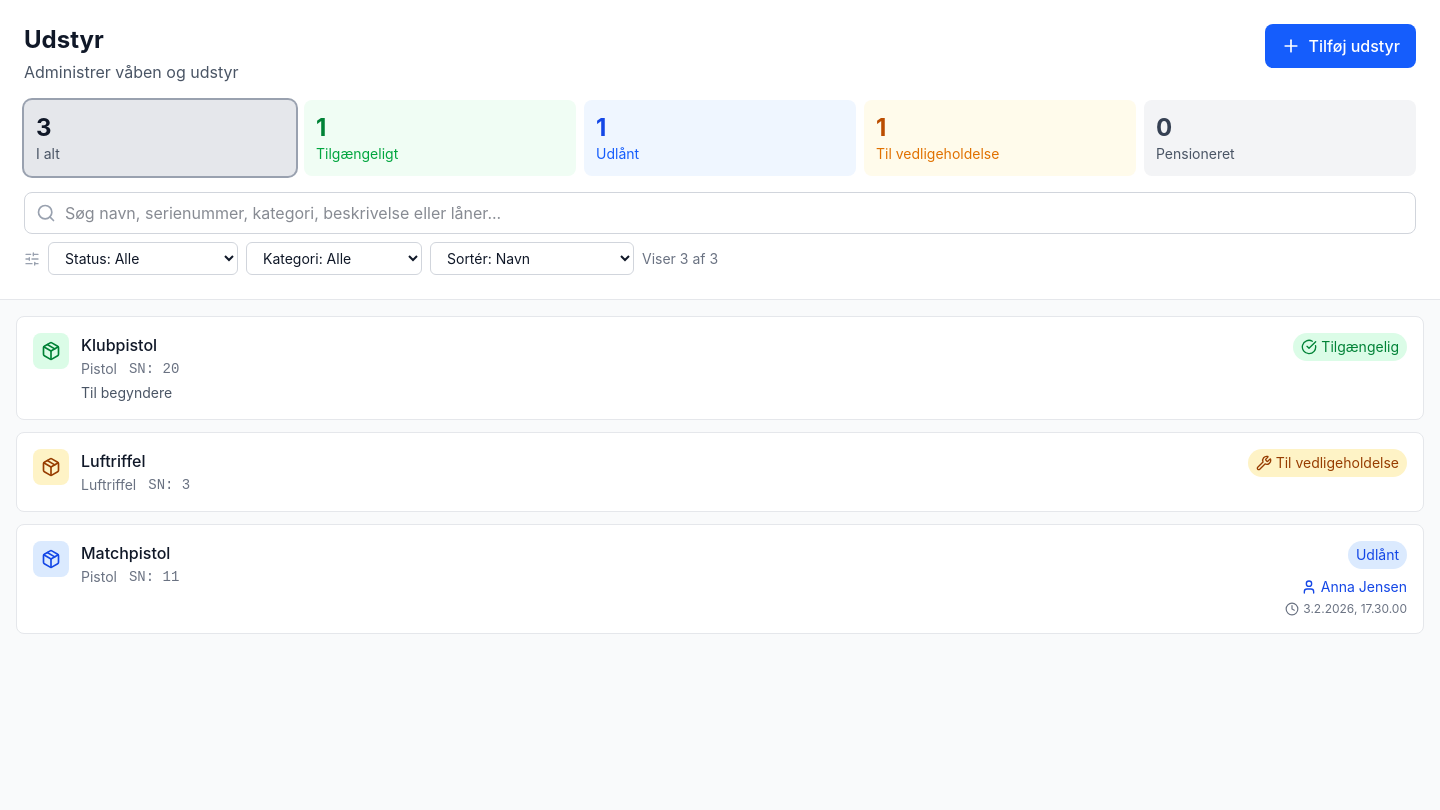
Test: EquipmentPage › prevents duplicate serial numbers
Expected: the text "Klubpistol" is shown, [81, 335, 157, 355]
Click the button "Tilføj udstyr" at (1340, 46), box [1265, 24, 1416, 68]
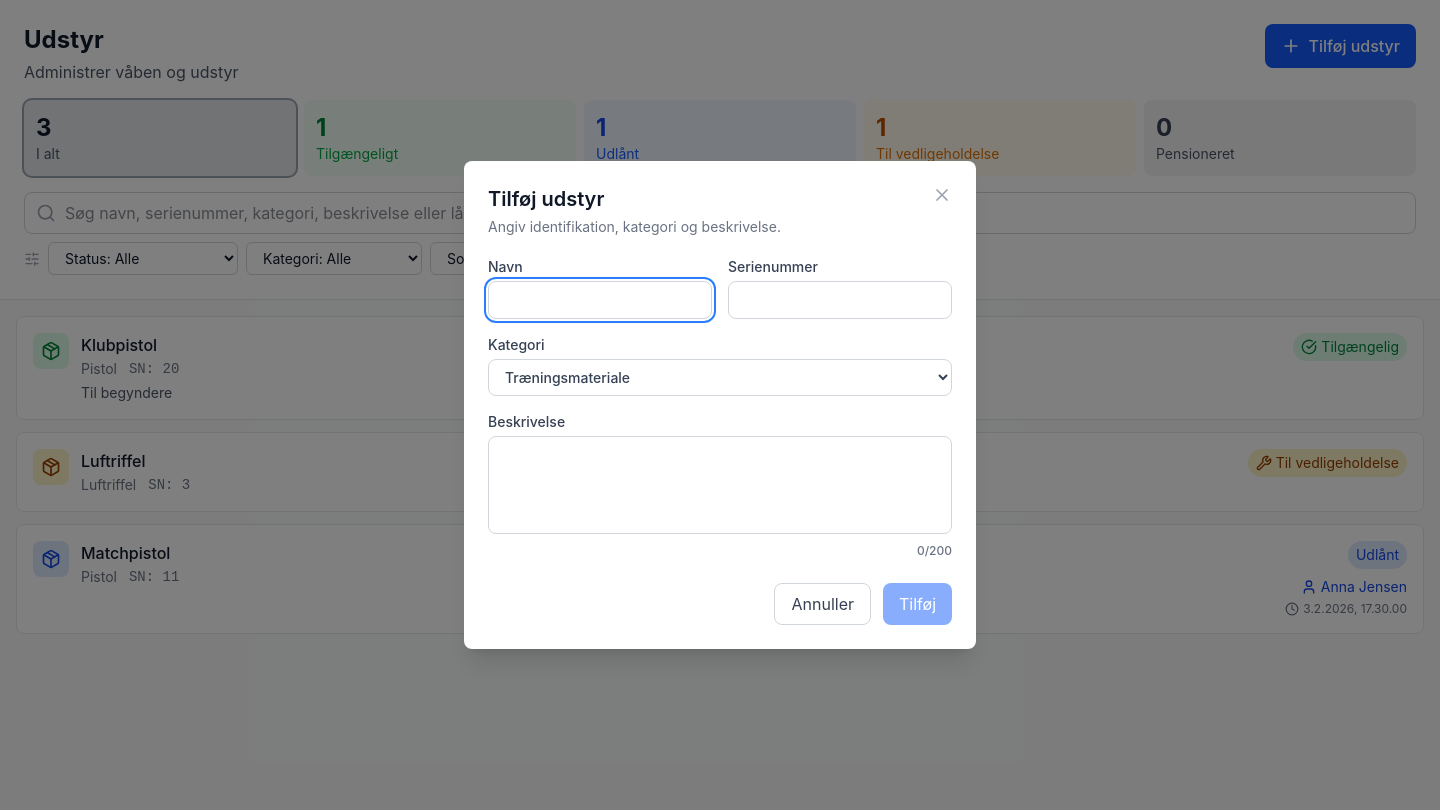
Type "Ny salonriffel" into the field labelled "Navn" at (600, 300), box [488, 281, 712, 319]
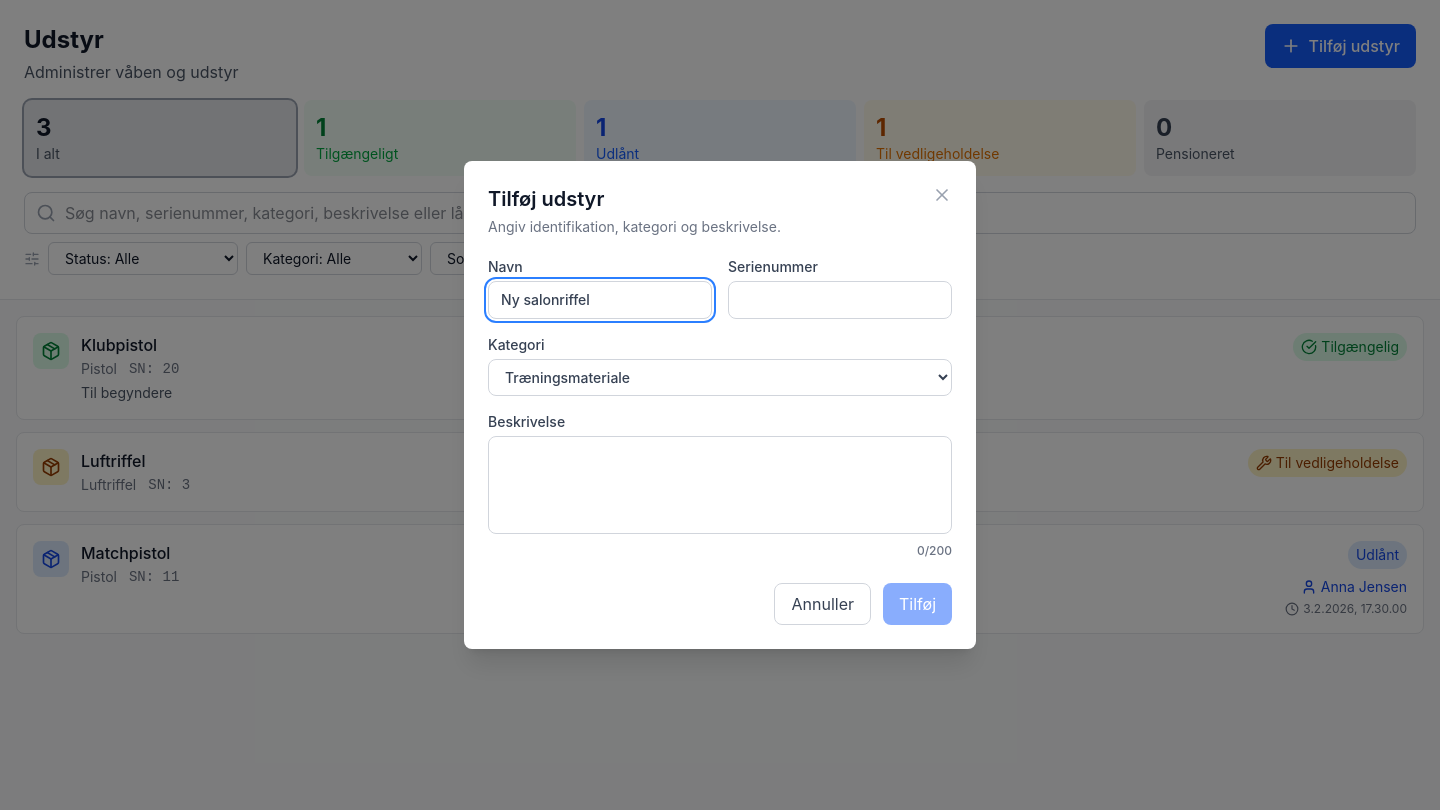
Type "20" into the field labelled "Serienummer" at (840, 300), box [728, 281, 952, 319]
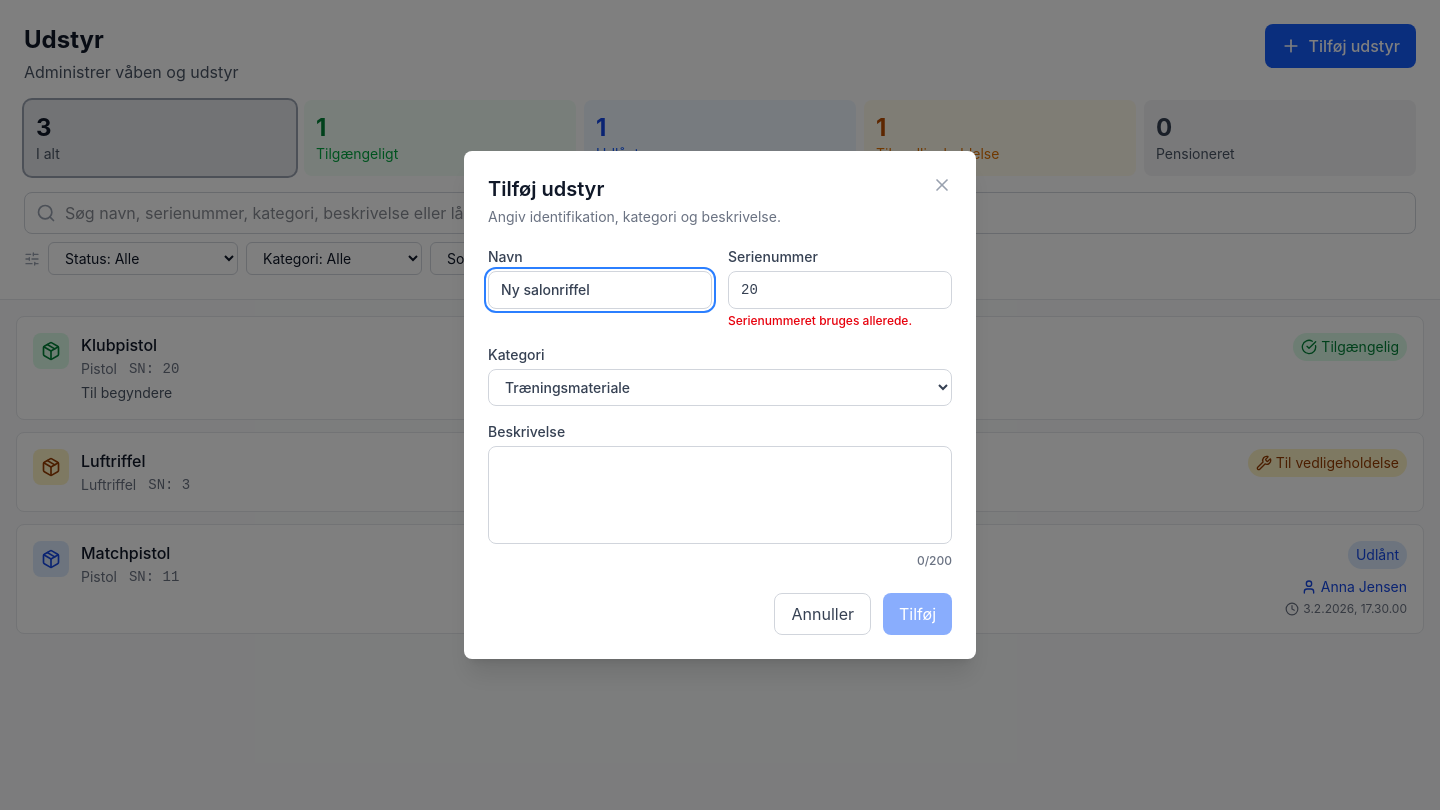
Expected: the button "Tilføj" is disabled, [883, 593, 952, 635]
Expected: the text "Serienummeret bruges allerede." is shown, [728, 313, 912, 328]
